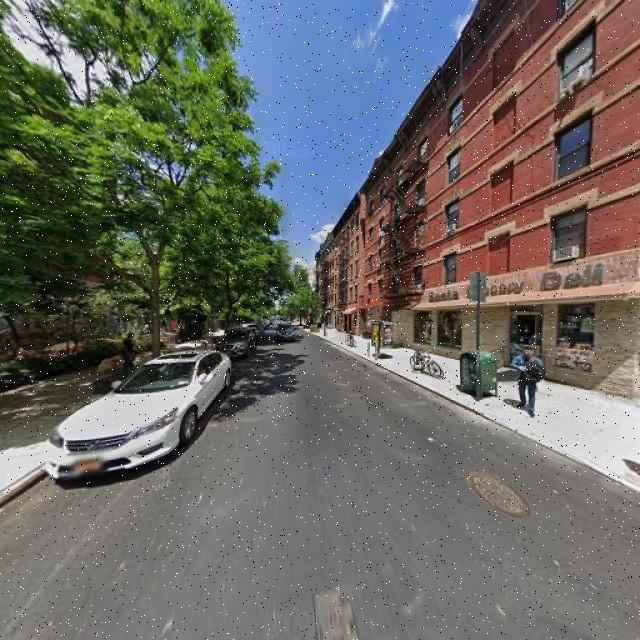Building: (364, 1, 640, 404), (318, 193, 361, 339)
